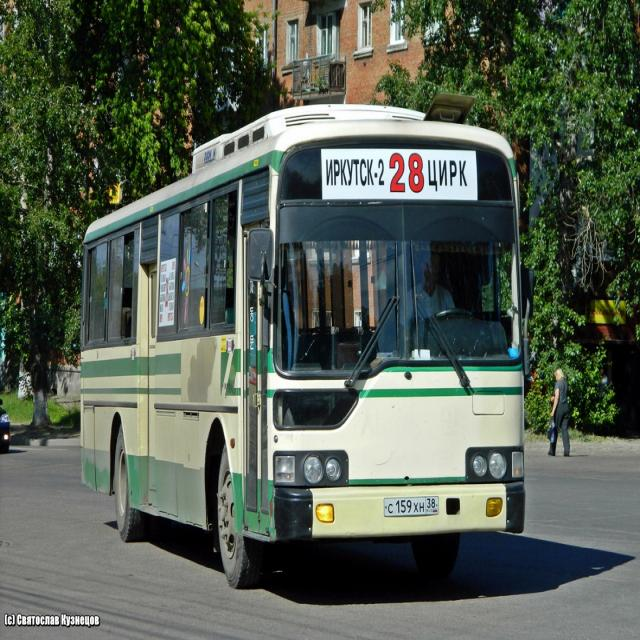number-of-bus: (388, 152, 425, 199)
